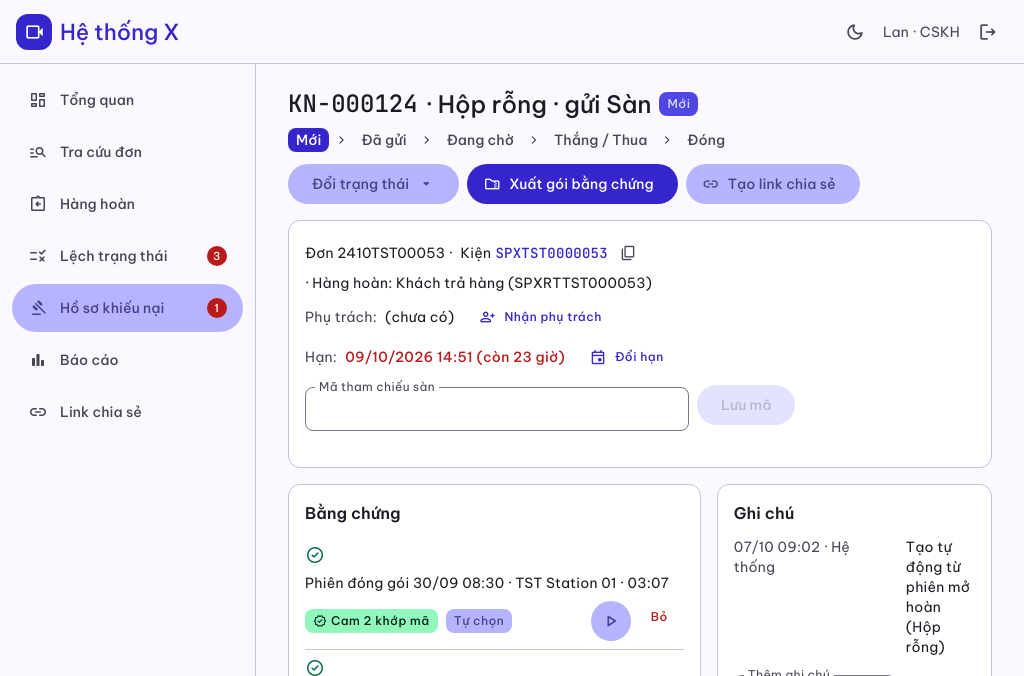
it: Đóng sớm (từ Mới) cần lý do 5–500
Check: the heading "KN-000124 · Hộp rỗng · gửi Sàn Mới" is shown, box [288,88,733,120]
Click the button "Đổi trạng thái" at (374, 184), box [288,164,459,204]
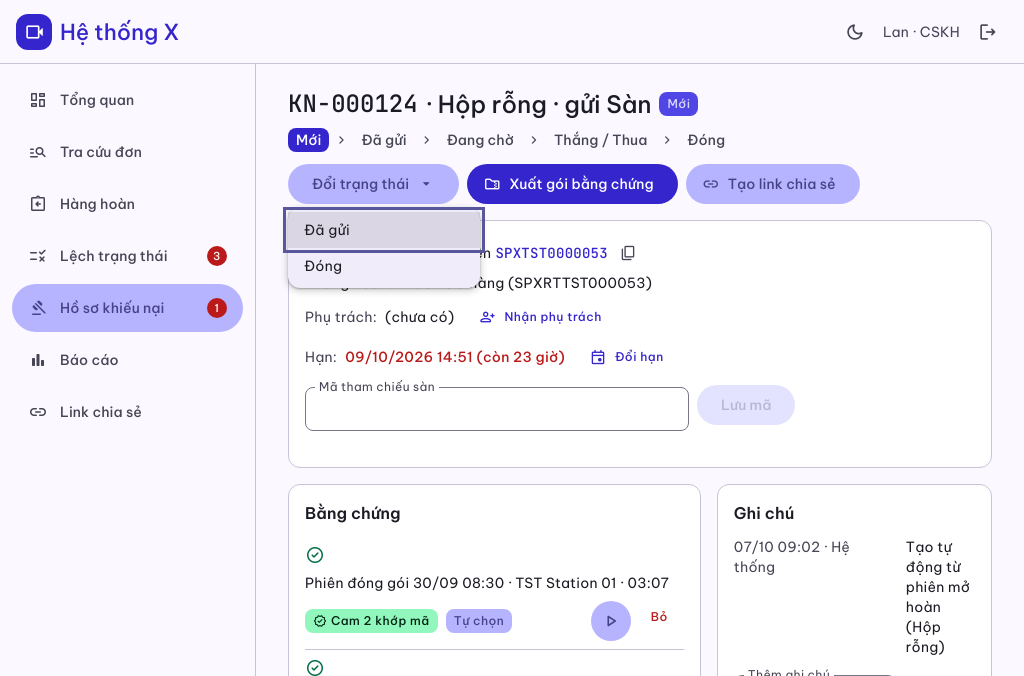
Click the menu item "Đóng" at (384, 266), box [288,248,480,284]
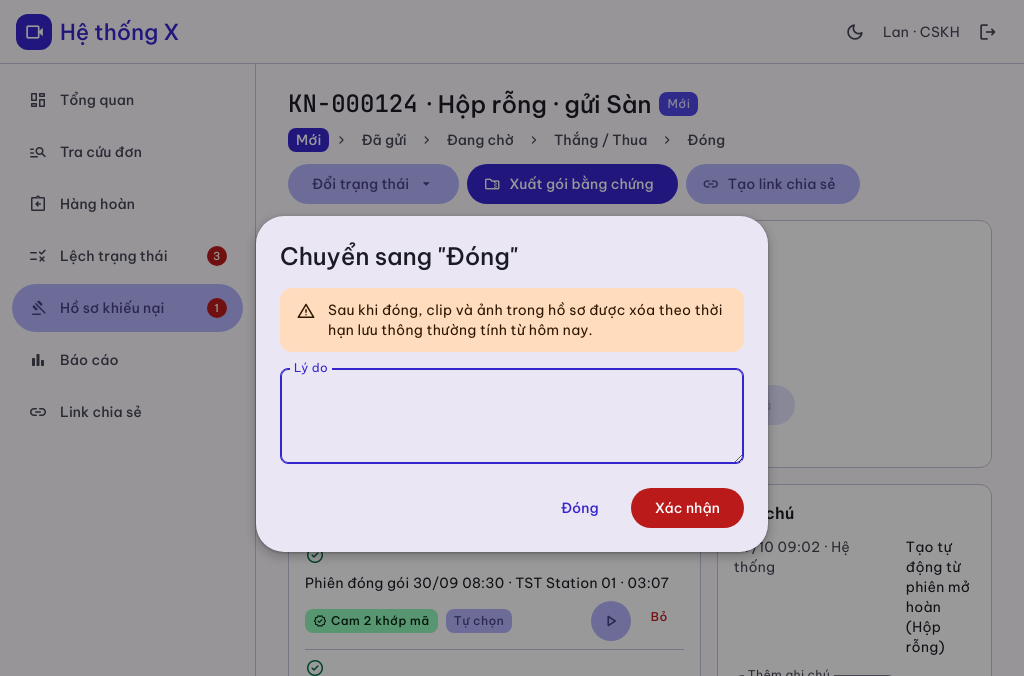
Click the button "Xác nhận" at (687, 508), box [631,488,744,528]
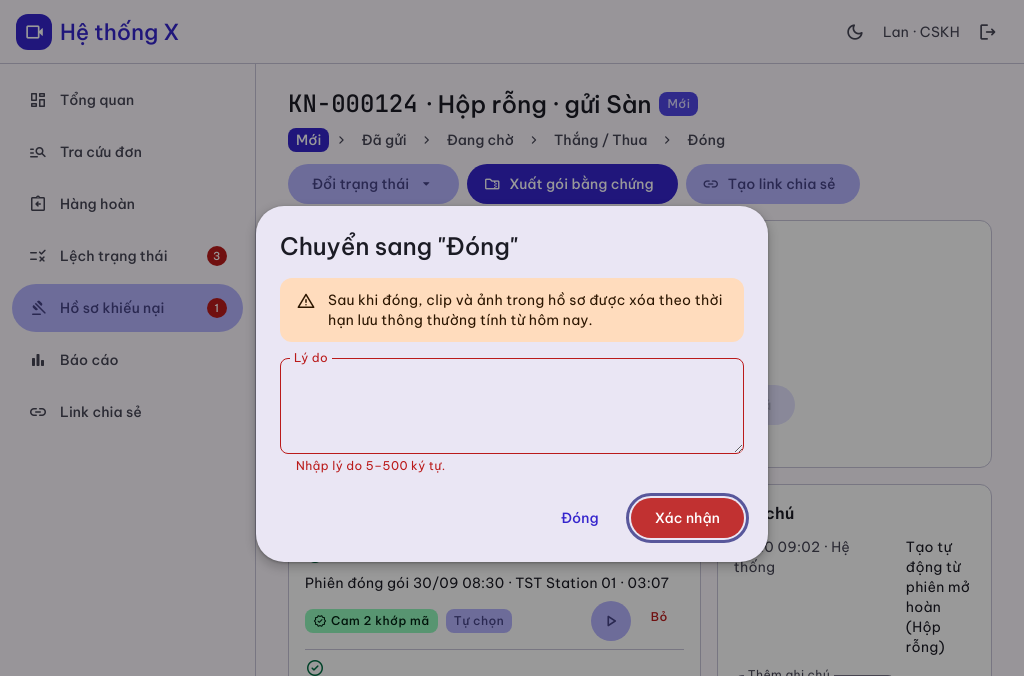
Type "Khách rút yêu cầu" into the text box labelled "Lý do" at (512, 406), box [280,358,744,454]
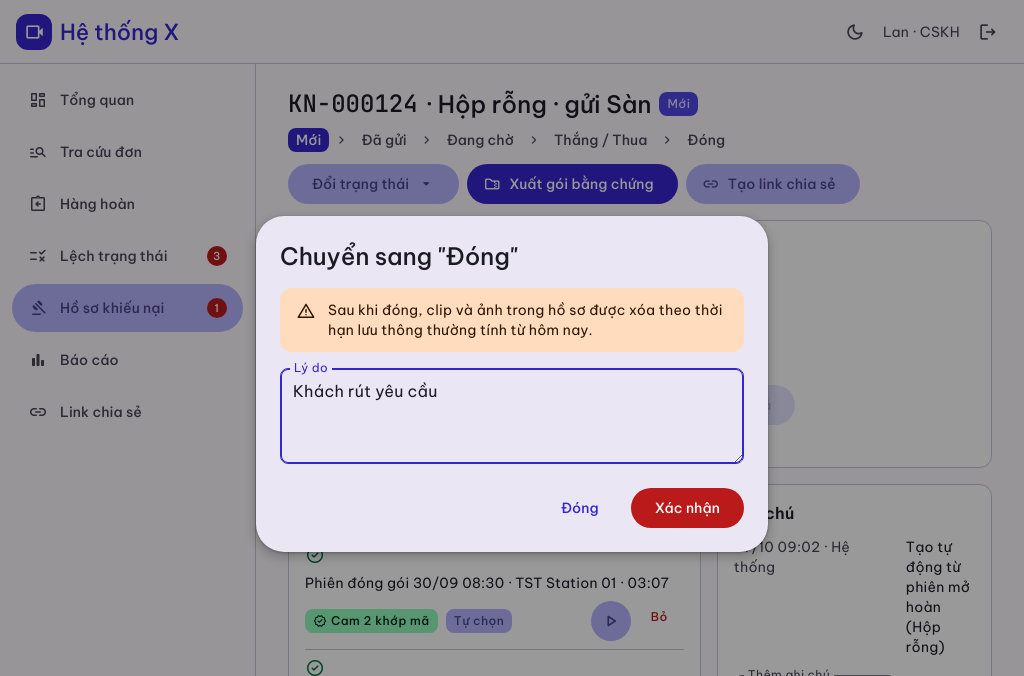
Click the button "Xác nhận" at (687, 508), box [631,488,744,528]
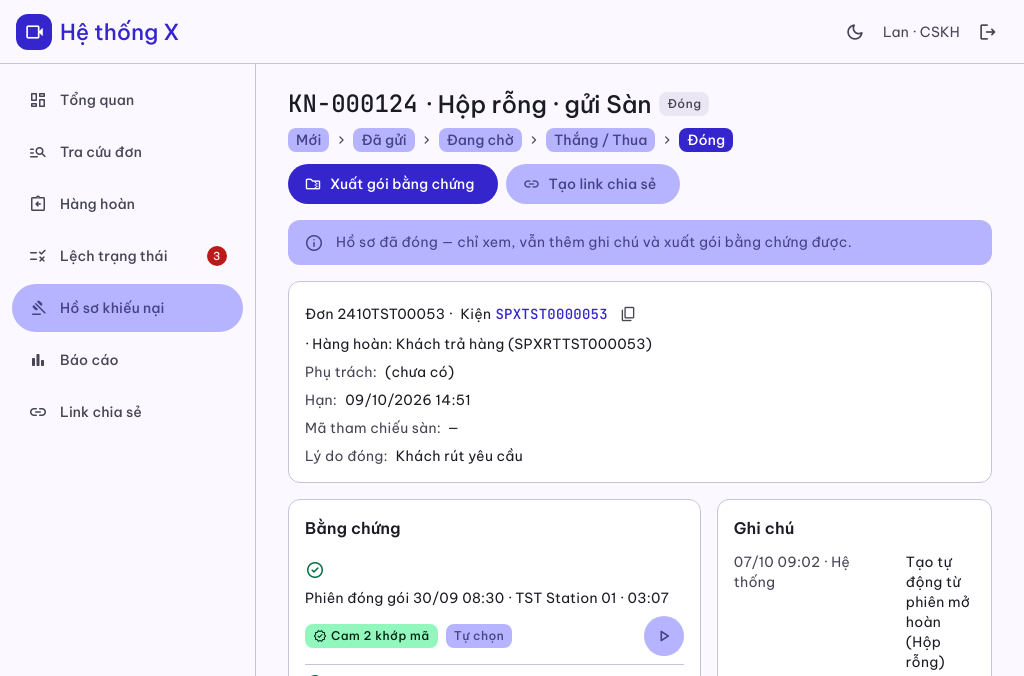
Check: the text "Khách rút yêu cầu" is shown, box [396,446,523,466]
